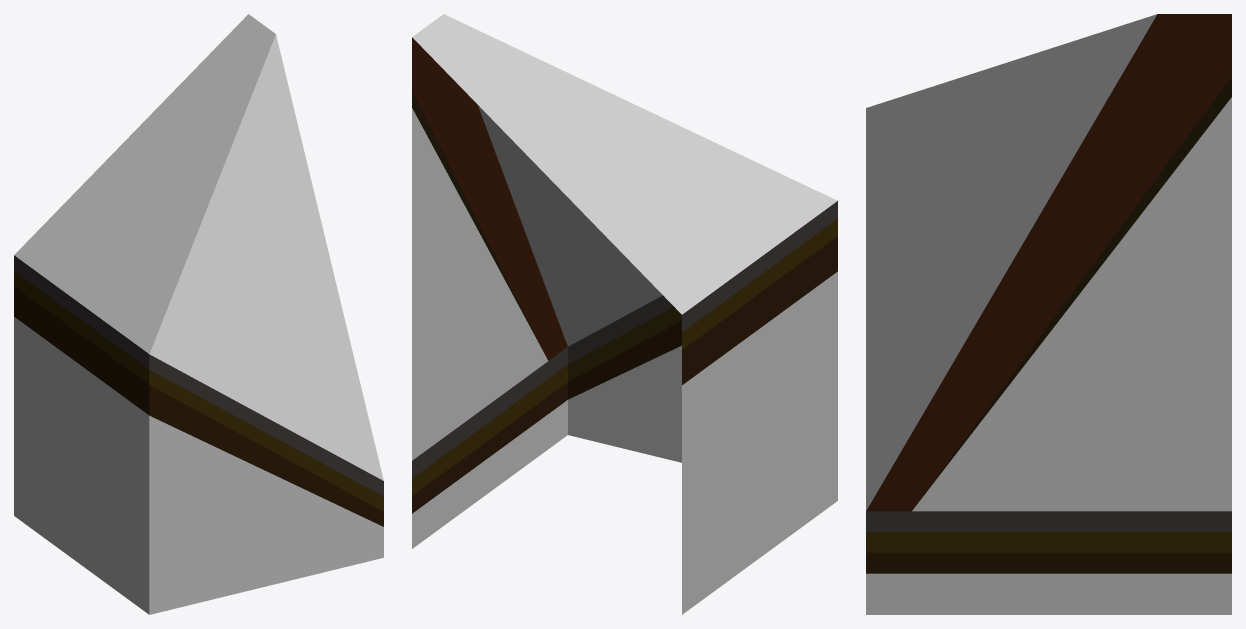
The model's file is model_loc_1776_a.obj.
3 renders of one model, left to right at view 1: azimuth 30°, elevation 25°; view 2: azimuth 150°, elevation 25°; view 3: azimuth 270°, elevation 25°, orthographic. The views are drawn at different scales.
Parts seen in each view (by area): view 1: 1371; view 2: 1371; view 3: 1371.
Part boxes in pixels (bbox=[...]): 1371: bbox=[14, 14, 383, 614]; 1371: bbox=[412, 14, 837, 614]; 1371: bbox=[866, 14, 1231, 614].
Bounding box in the file's own units: 128 × 232 × 128.
